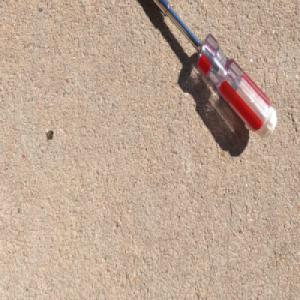Screwdriver: (150, 0, 279, 139)
